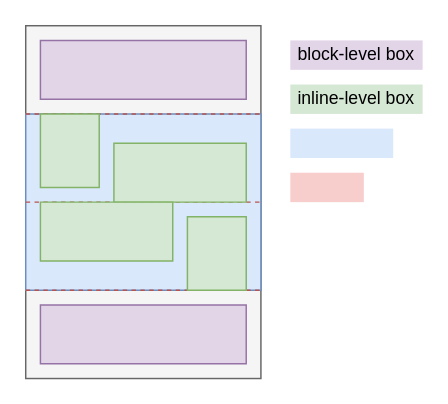
This 448x404 diagram has some shape labels left out. The shapes that lost their labels are listed below. From the top down, each one's box as (x1, y1, x2, y2) in pixels, then its label:
(290, 128, 392, 157): wrapper box
(290, 172, 363, 201): line box
